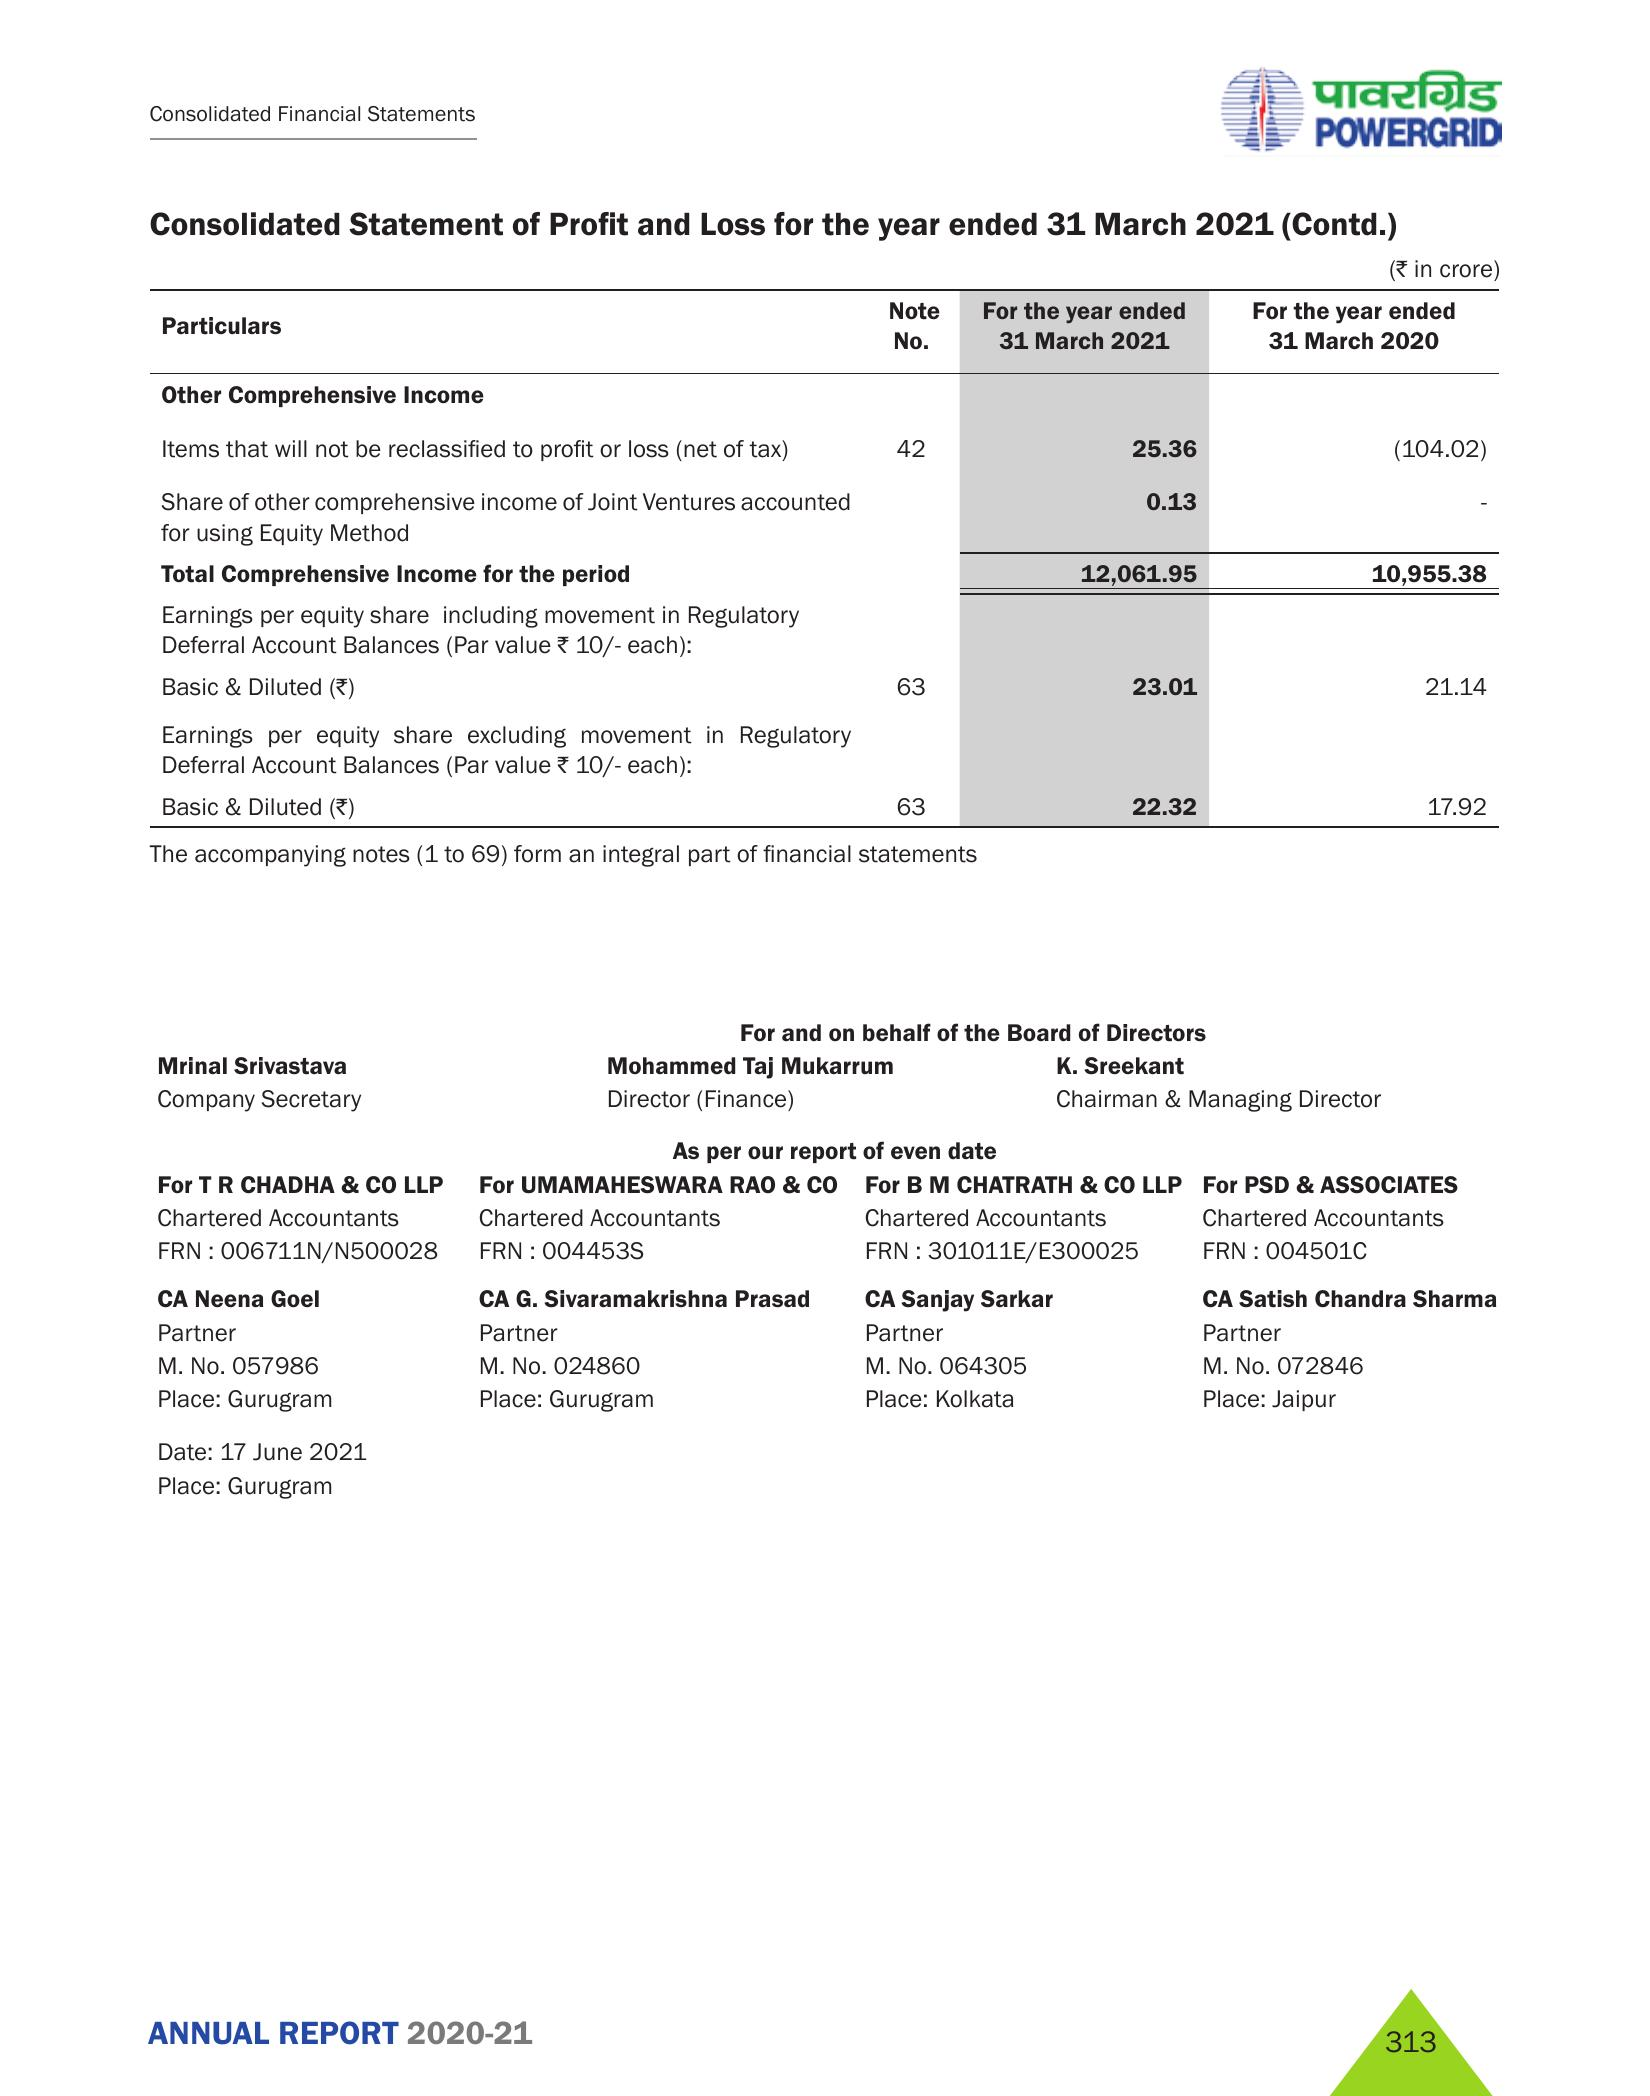Footer: (0, 1956, 1650, 2096)
Header: (0, 0, 1650, 168)
Table: (117, 289, 1528, 825)
